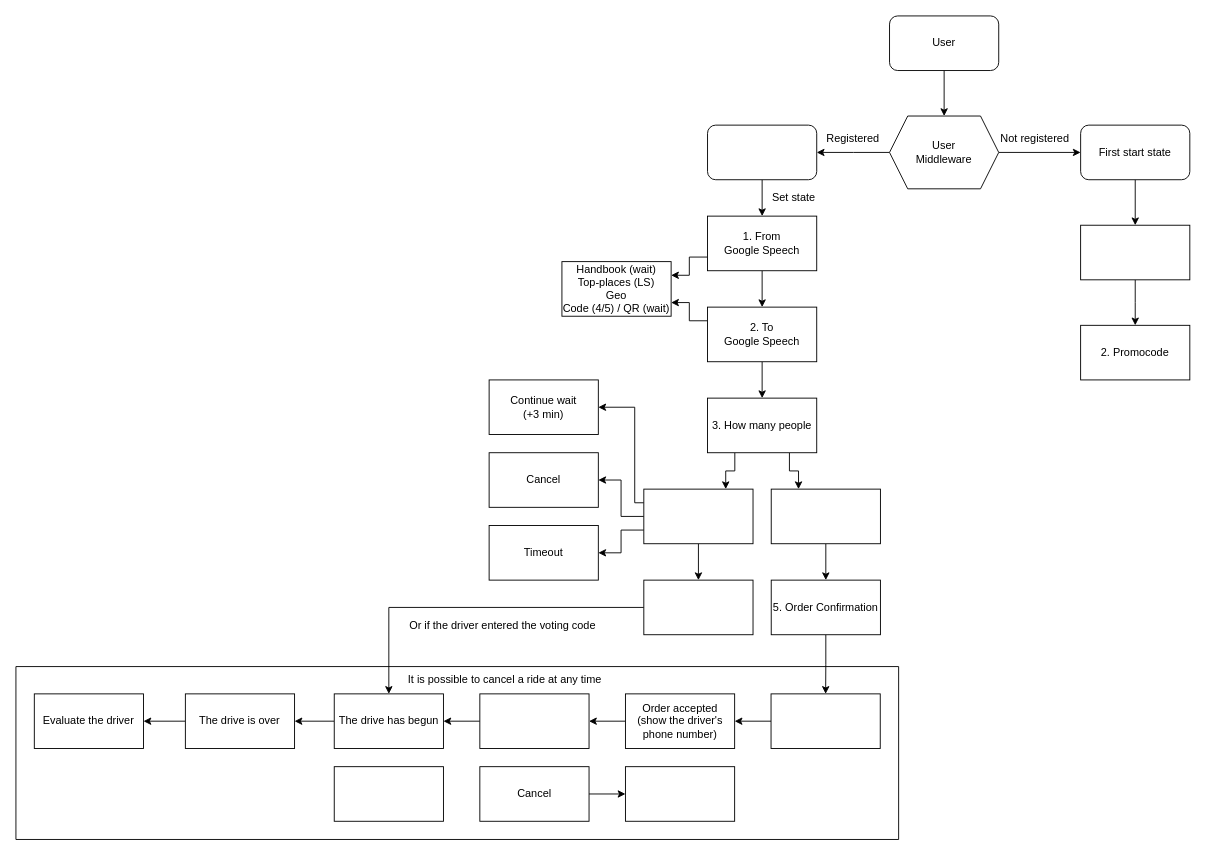
The diagram is 1206 pixels wide and 855 high, and some of its shapes have lost their labels. The shapes that lost their labels are listed below. From the top down, each one's box as (x1, y1, x2, y2) in pixels, then its label:
(707, 124, 817, 180): Taxi order
(1080, 224, 1190, 280): 1. Name
(643, 488, 753, 544): Voiting (3 min)
(770, 488, 880, 544): 4. When
(643, 579, 753, 635): Enter car code (send a number)
(479, 693, 589, 748): The car has arrived
(770, 693, 880, 748): Search car
(333, 766, 443, 821): Chat mode (closes at the end of the ride)
(625, 766, 735, 821): Choose a reason
